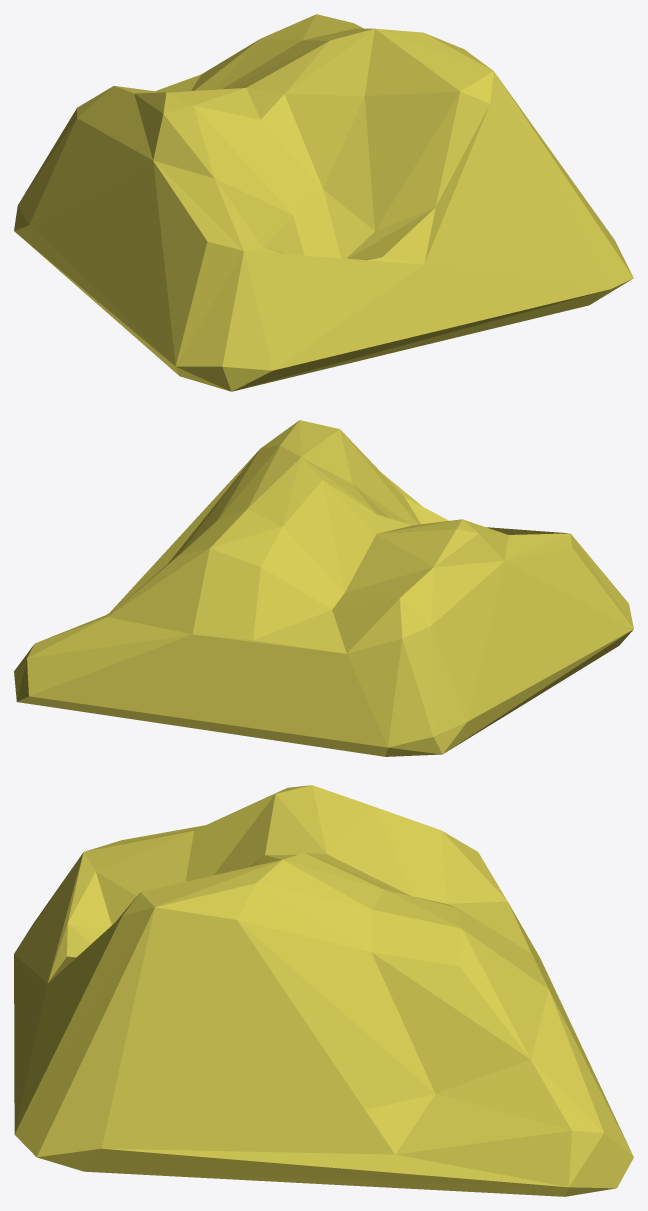
The model's file is sable.fbx.
3 renders of one model, top to bottom at view 1: azimuth 30°, elevation 25°; view 2: azimuth 150°, elevation 25°; view 3: azimuth 270°, elevation 25°, orthographic. The views are drawn at different scales.
Visible parts, largest first — view 1: Cube; view 2: Cube; view 3: Cube.
Boxes of the visible parts, <box> form: Cube: <box>14,14,633,391</box>; Cube: <box>14,420,633,756</box>; Cube: <box>14,785,633,1196</box>.
Size of the model in its own units: 205 by 87.73 by 204.
